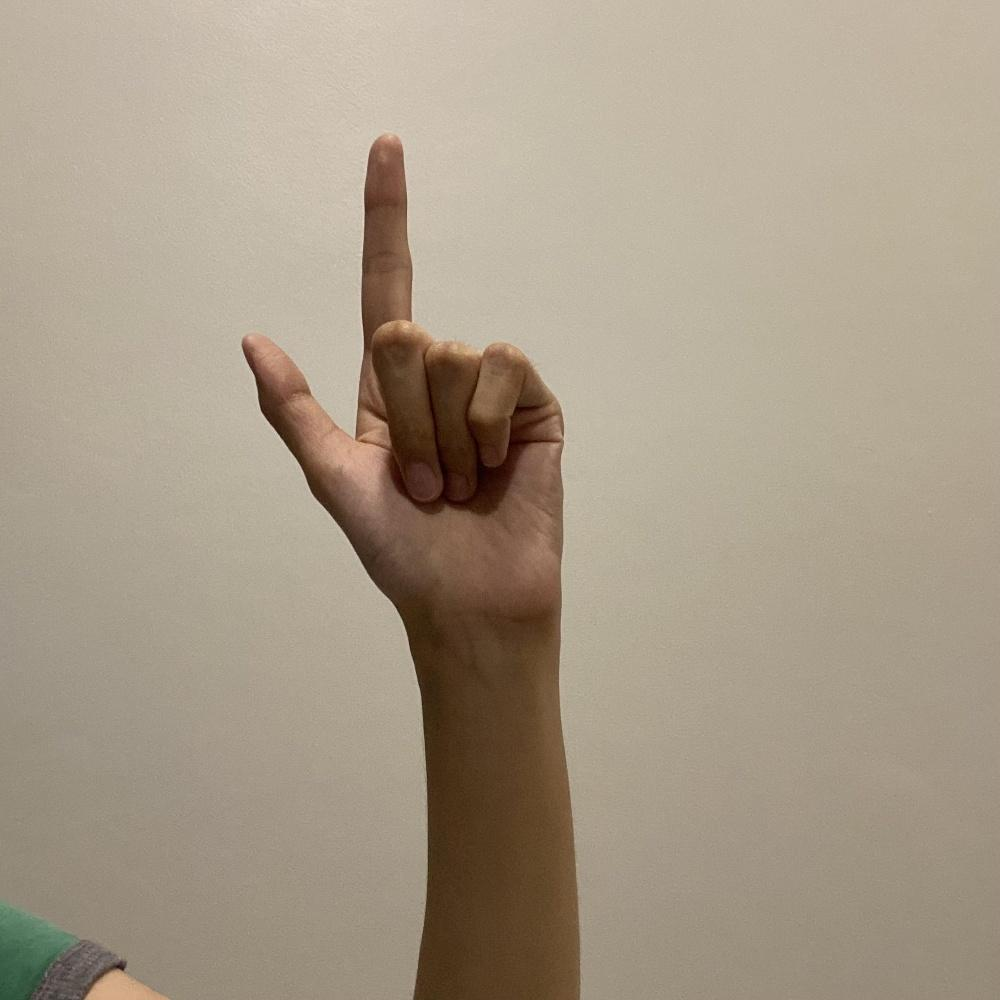l: (236, 124, 570, 622)
